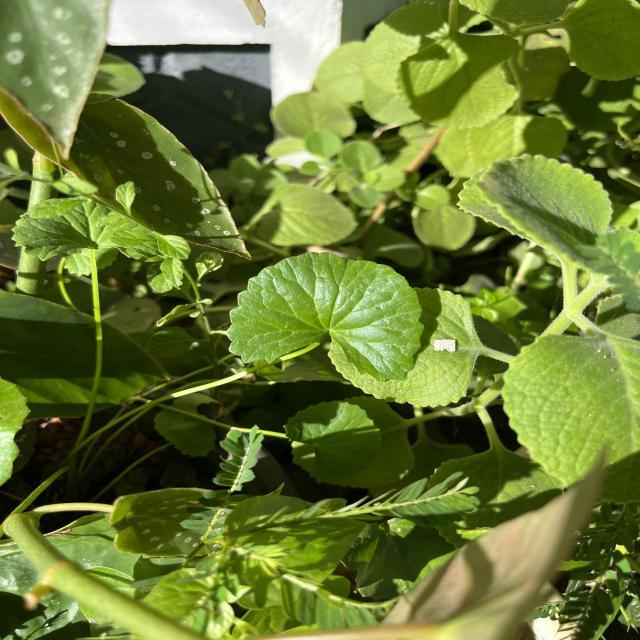Centella asiatica: (224, 250, 427, 384)
